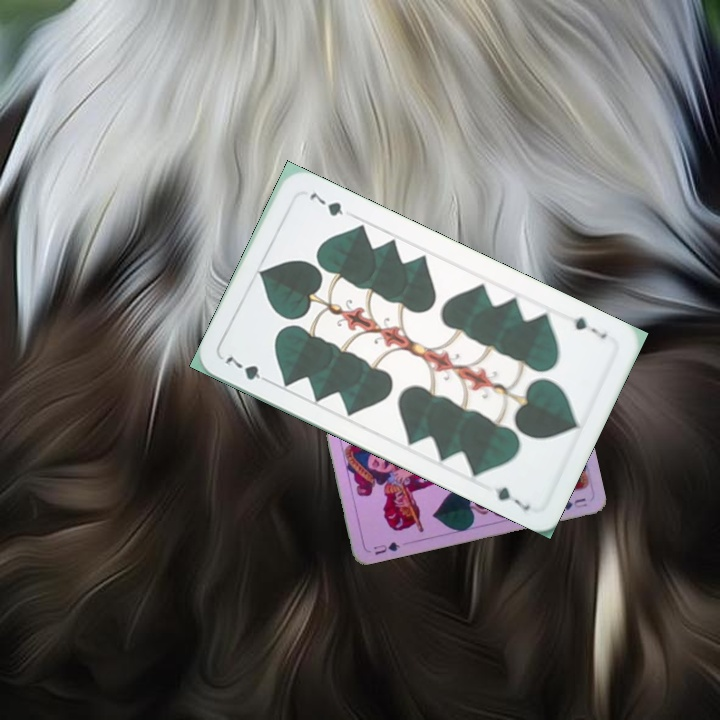G7: (221, 352, 275, 385), (569, 313, 610, 341)
GU: (370, 538, 403, 558)
